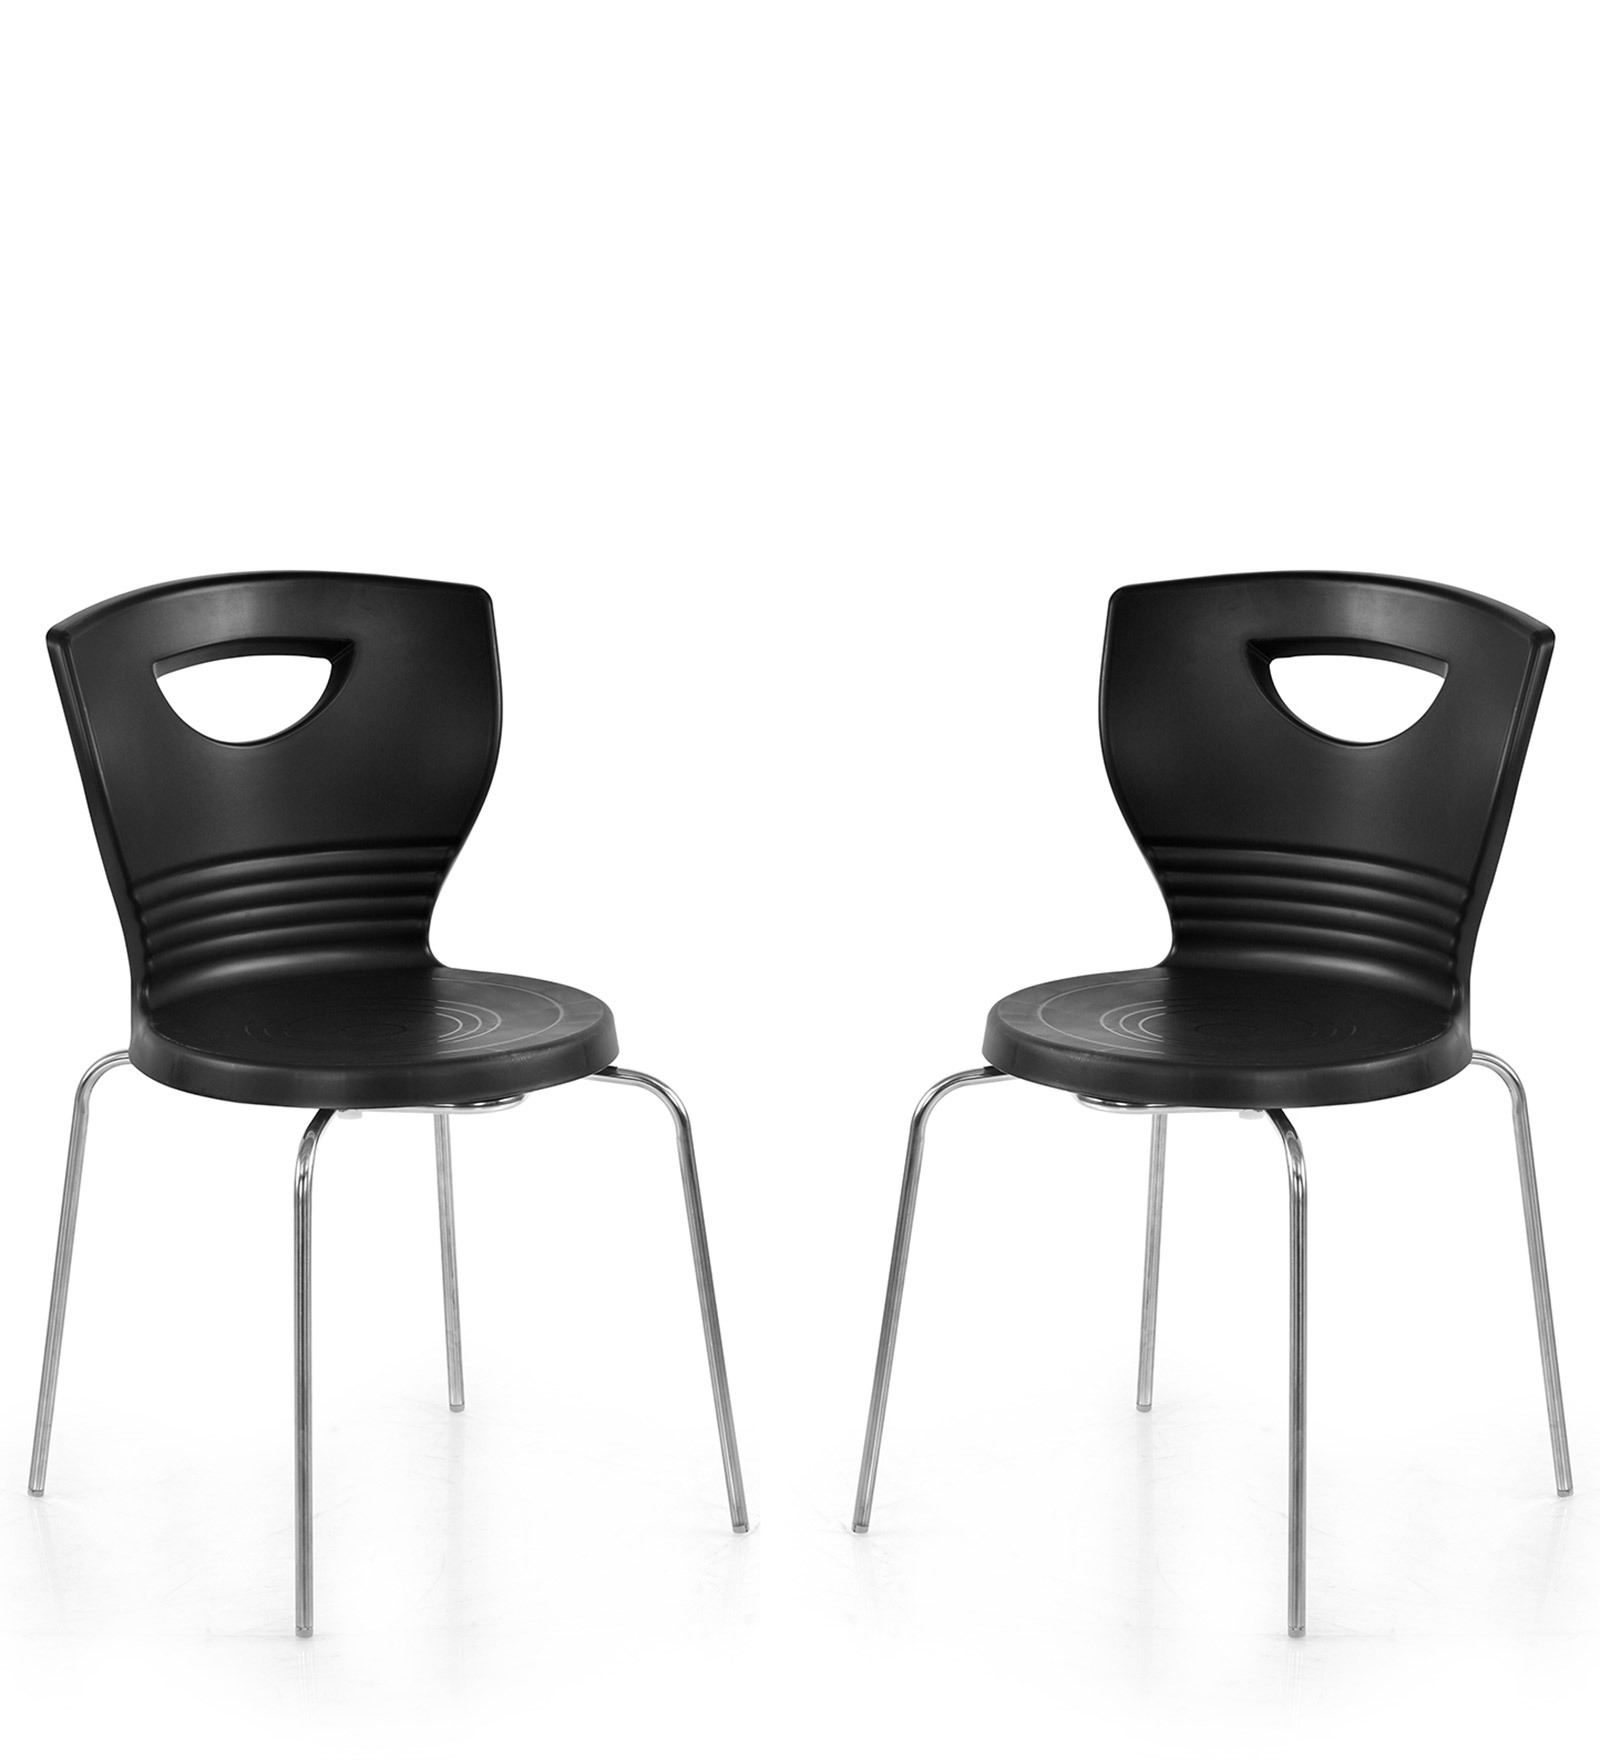Novella Series - 15 (Set of 2) Chairs in Black Color by Nilkamal: (841, 563, 1600, 1634), (26, 566, 769, 1640)
